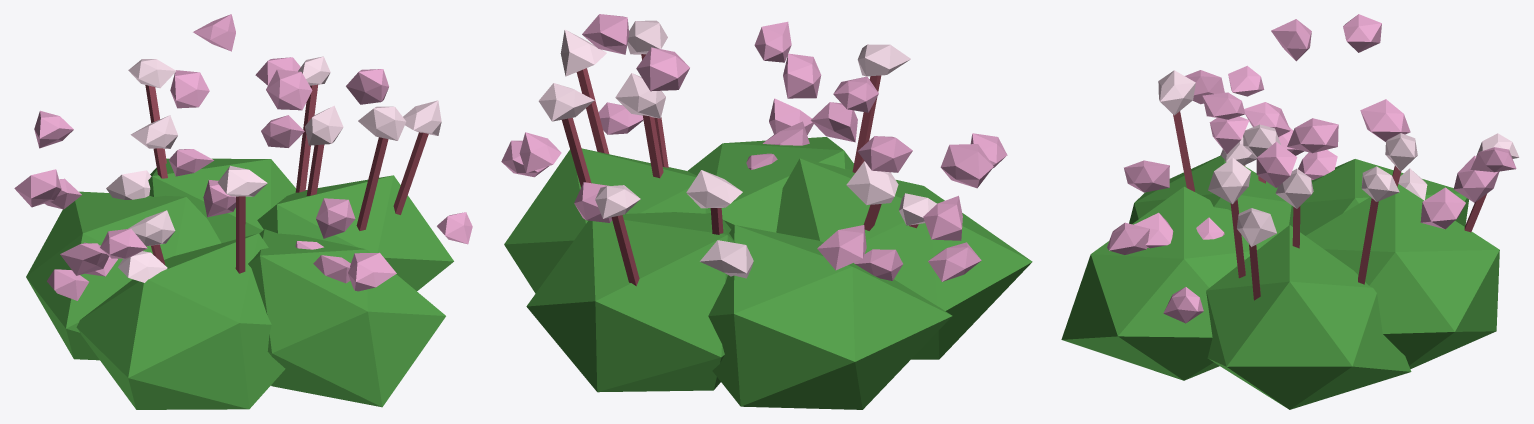
The model's file is viet_buckwheat.glb.
3 views of the same model, side by side, from view 1: azimuth 30°, elevation 25°; view 2: azimuth 150°, elevation 25°; view 3: azimuth 270°, elevation 25° (orthographic). The views are drawn at different scales.
Visible parts, largest first — view 1: viet_buckwheat; view 2: viet_buckwheat; view 3: viet_buckwheat.
Part boxes in pixels (x1,y1,x2,y2): viet_buckwheat: [14, 14, 472, 409]; viet_buckwheat: [501, 14, 1032, 409]; viet_buckwheat: [1061, 14, 1519, 409].
Size of the model in its own units: 1 by 0.6417 by 0.9904.
